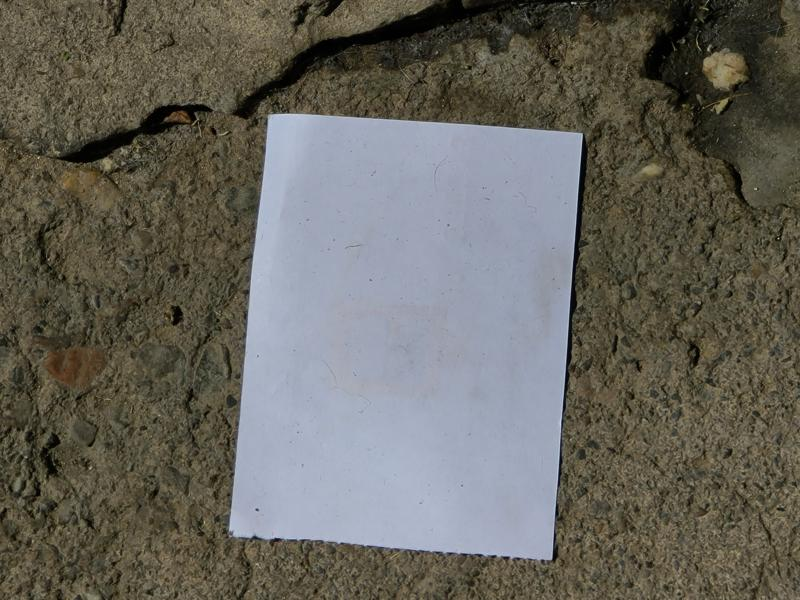papel: (227, 114, 587, 564)
